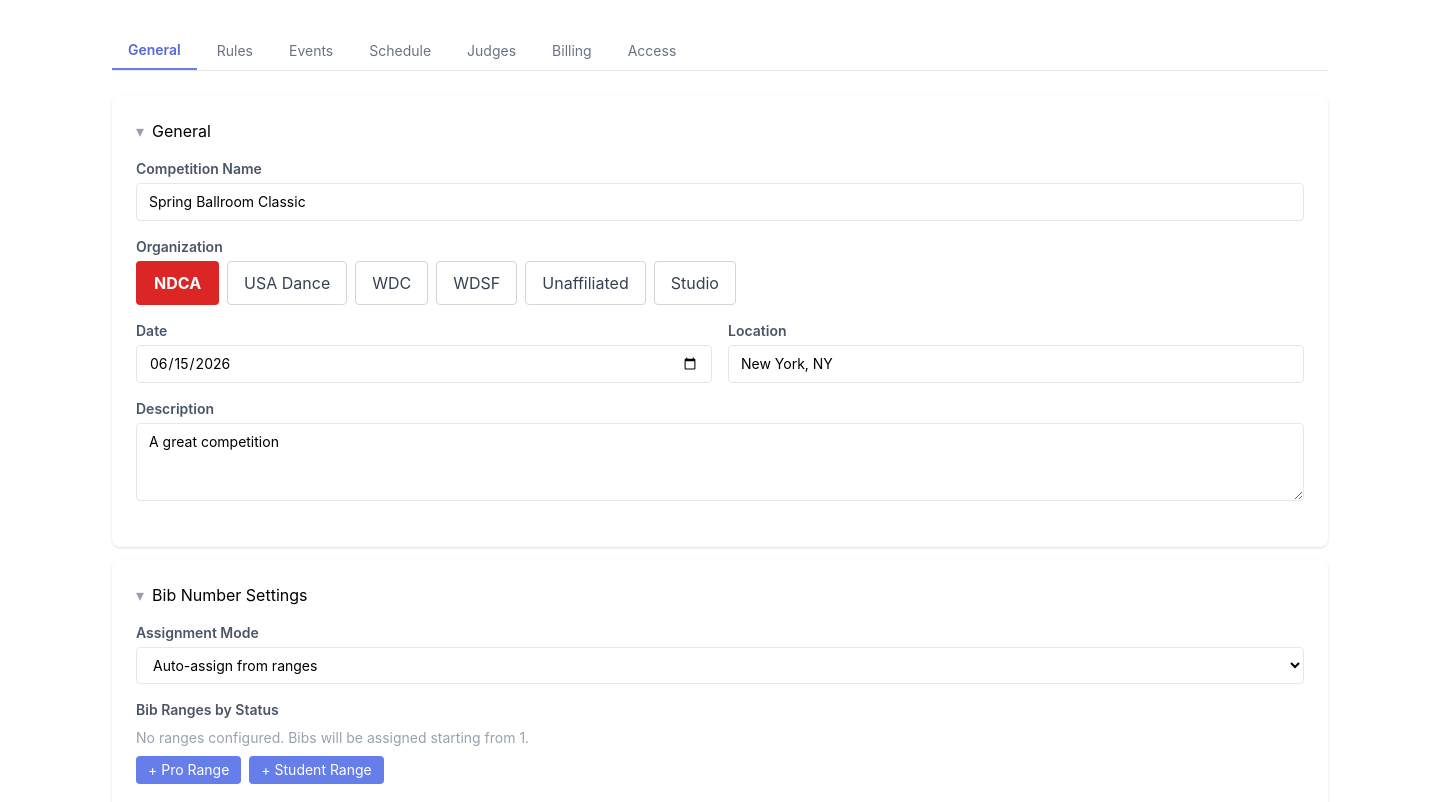
Test case: CompetitionSettingsPage › should show Judges tab with Judge Breaks section
Note: Click the Judges tab
Click the button "Judges".
click(492, 51)  # box [451,32,532,70]
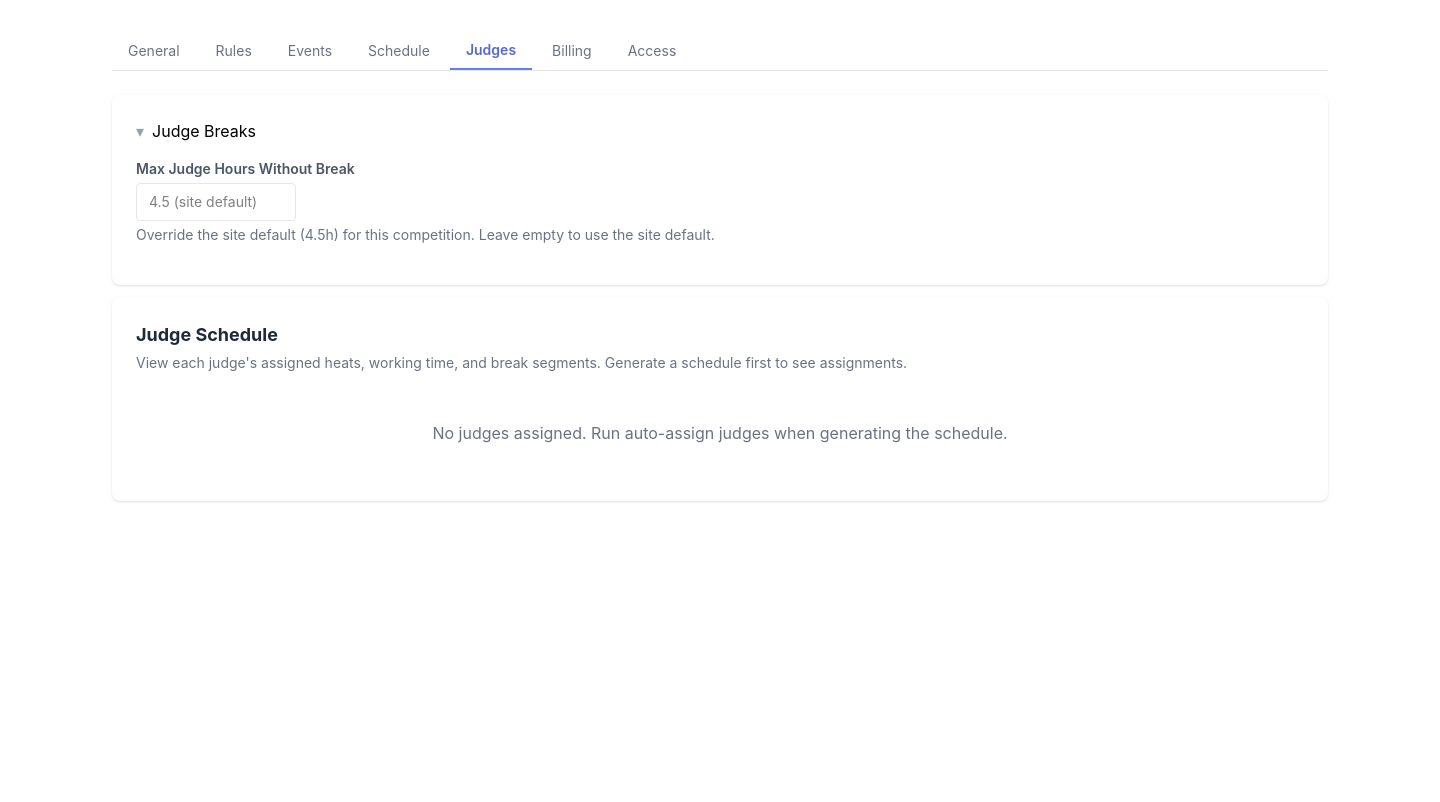
Check: the heading "▾Judge Breaks" is shown, box [136,119,256,143]
Check: the text "Max Judge Hours Without Break" is shown, box [136,160,355,177]
